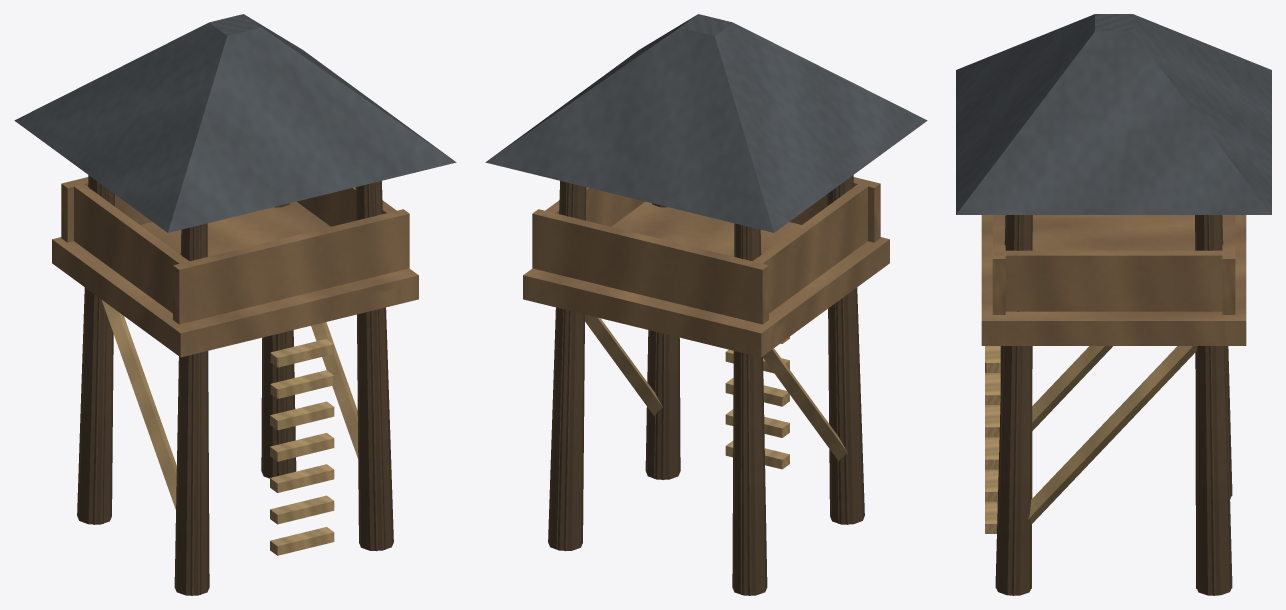
The model's file is WatchPost.fbx.
The picture shows the model from 3 angles, left to right: view 1: azimuth 30°, elevation 25°; view 2: azimuth 150°, elevation 25°; view 3: azimuth 270°, elevation 25°; orthographic projection. The views are drawn at different scales.
Parts seen in each view (by area): view 1: WatchPostDetail0, WatchPostDetail1, WatchPostDetail2; view 2: WatchPostDetail0, WatchPostDetail1, WatchPostDetail2; view 3: WatchPostDetail0, WatchPostDetail1, WatchPostDetail2.
Boxes of the visible parts, x1=… form: WatchPostDetail0: x1=14, y1=14, x2=456, y2=595; WatchPostDetail1: x1=52, y1=179, x2=418, y2=595; WatchPostDetail2: x1=102, y1=182, x2=385, y2=594; WatchPostDetail0: x1=485, y1=14, x2=927, y2=595; WatchPostDetail1: x1=523, y1=178, x2=889, y2=595; WatchPostDetail2: x1=556, y1=182, x2=839, y2=594; WatchPostDetail0: x1=956, y1=14, x2=1271, y2=595; WatchPostDetail1: x1=981, y1=215, x2=1246, y2=595; WatchPostDetail2: x1=995, y1=215, x2=1232, y2=588.
Bounding box in the file's own units: 376 × 629 × 346.
1 material, 1 textured.
